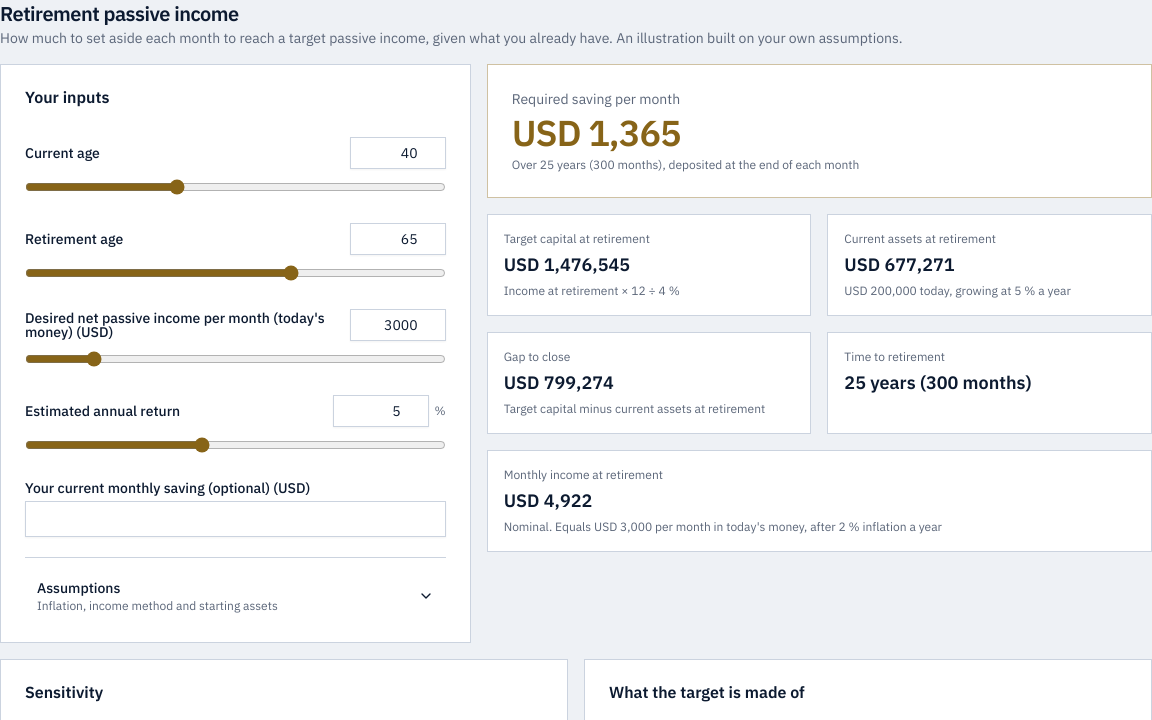
validation › blocks a retirement age that is not after the current age
Replace the text in the number field labelled "Retirement age" with "40" at (398, 239), box [350, 223, 446, 255]
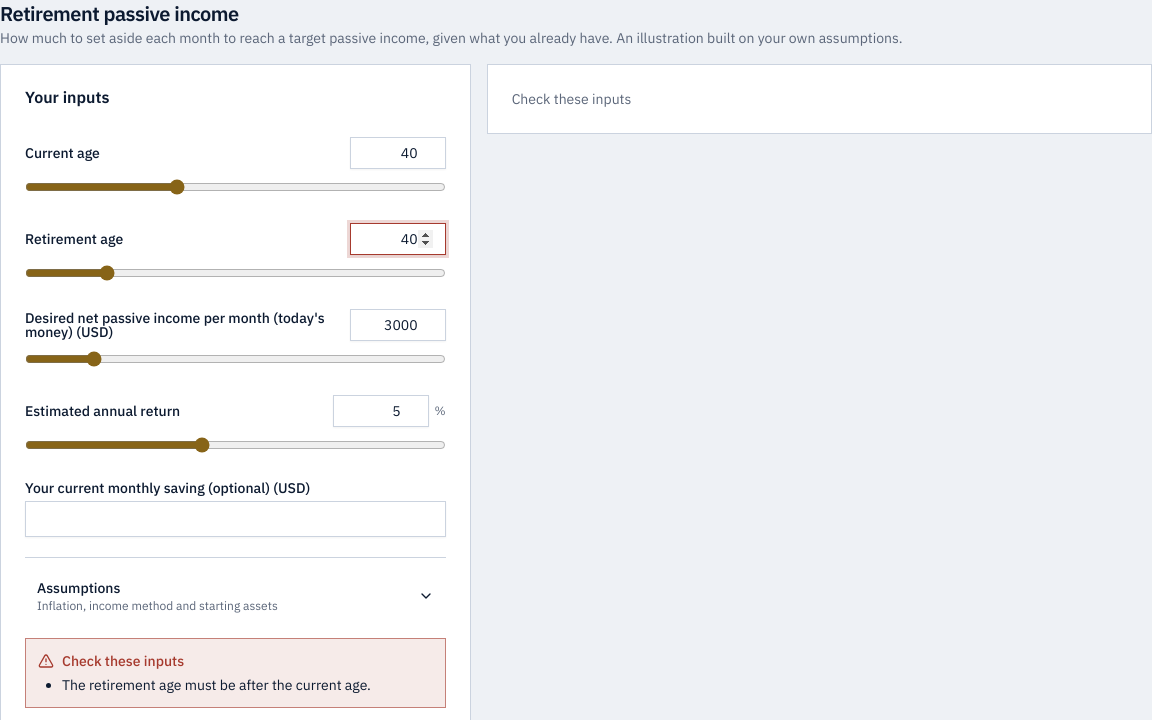
Expected: the message shows "retirement age must be after the current age", [62, 676, 371, 694]
